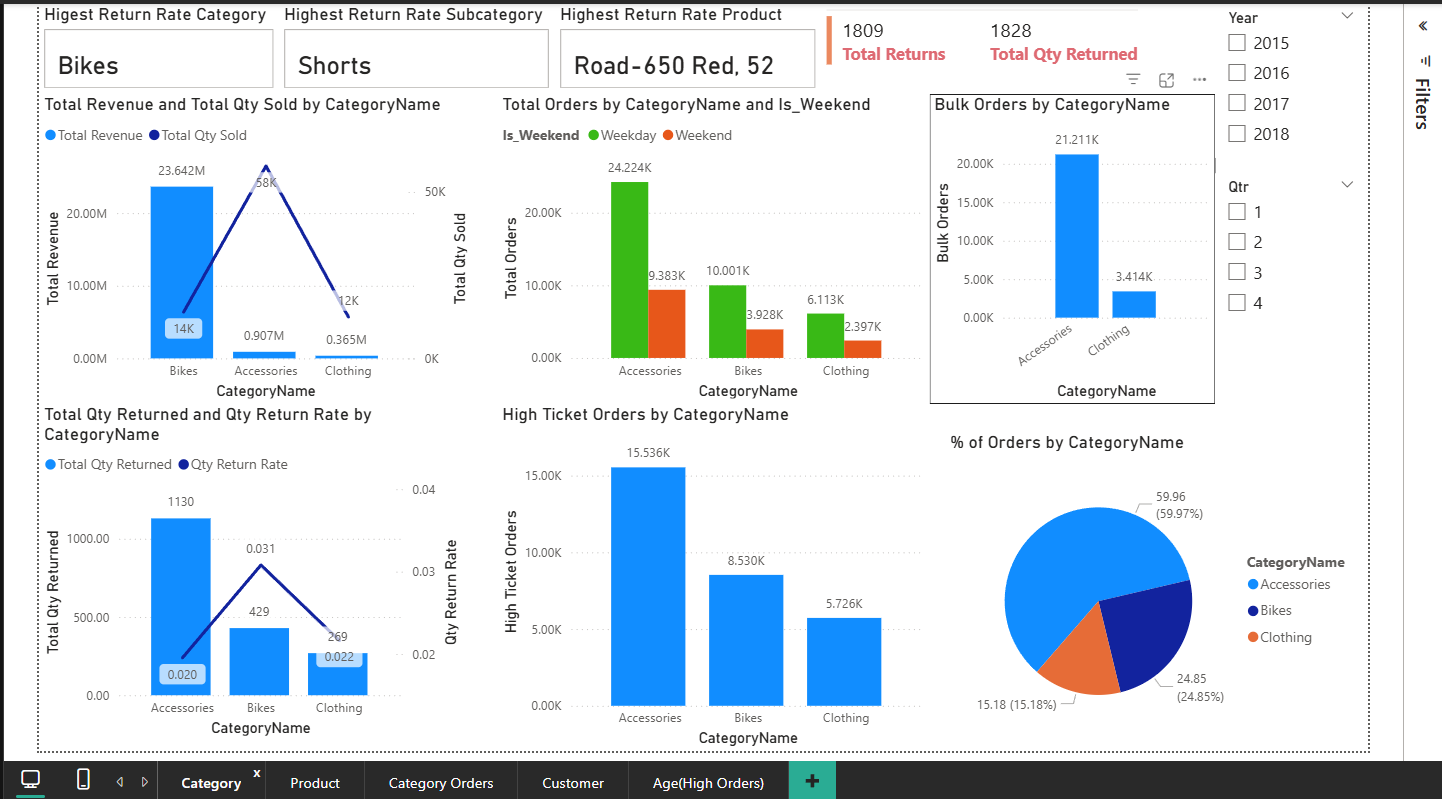

This screenshot's page, from the dashboard's own definition file:
{"tool":"powerbi","page":{"name":"Category","canvas":[1280,720],"ordinal":0},"visuals":[{"type":"lineClusteredColumnComboChart","fields":{"Category":["Products.CategoryName"],"Y":["Sales.Total Revenue"],"Y2":["Sales.Total Qty Sold"]},"box":[0,86.2,417.5,298.8],"z":1000},{"type":"lineClusteredColumnComboChart","fields":{"Category":["Products.CategoryName"],"Y2":["Sales.Qty Return Rate"],"Y":["Sales.Total Qty Returned"]},"box":[0,385,408.8,325],"z":2000},{"type":"cardVisual","title":"Higest Return Rate Category","fields":{"Data":["Min(Products.CategoryName)"]},"box":[0,0,231.7,86.7],"z":4000},{"type":"cardVisual","title":"Highest Return Rate Subcategory","fields":{"Data":["Min(Products.SubcategoryName)"]},"box":[231.7,0,265,86.7],"z":5000},{"type":"cardVisual","title":"Highest Return Rate Product","fields":{"Data":["Min(Products.ProductName)"]},"box":[496.7,0,256.7,86.7],"z":6000},{"type":"multiRowCard","fields":{"Values":["Sales.Total Returns","Sales.Total Qty Returned"]},"box":[753.3,0,310,86.7],"z":7000},{"type":"clusteredColumnChart","fields":{"Category":["Products.CategoryName"],"Y":["Sales.Bulk Orders"]},"box":[858.3,86.7,275,298.3],"z":8000},{"type":"clusteredColumnChart","fields":{"Category":["Products.CategoryName"],"Y":["Sales.Total Orders"],"Series":["Calendar_Tbl.Is_Weekend"]},"box":[441.7,86.7,416.7,298.3],"z":8001},{"type":"pieChart","fields":{"Y":["Sales.% of Orders"],"Category":["Products.CategoryName"]},"box":[873.3,411.7,406.7,308.3],"z":8002},{"type":"clusteredColumnChart","fields":{"Category":["Products.CategoryName"],"Y":["Sales.High Ticket Orders"]},"box":[441.7,385,416.7,335],"z":8003},{"type":"slicer","fields":{"Values":["Calendar_Tbl.Qtr"]},"box":[1133.3,163.3,146.7,228.3],"z":8004},{"type":"slicer","fields":{"Values":["Calendar_Tbl.Year"]},"box":[1133.3,0,146.7,148.3],"z":8005}]}

Visuals, with their boxes on the page's 1280x720 design canvas (x1, y1, x2, y2). These are canvas units, not pixel positions in the 1442x799 screenshot, which may show the page scaled, cropped or inside an application window:
lineClusteredColumnComboChart - Products.CategoryName x Sales.Total Revenue: 0/86/418/385
lineClusteredColumnComboChart - Products.CategoryName x Sales.Qty Return Rate: 0/385/409/710
"Higest Return Rate Category" cardVisual: 0/0/232/87
"Highest Return Rate Subcategory" cardVisual: 232/0/497/87
"Highest Return Rate Product" cardVisual: 497/0/753/87
multiRowCard - Sales.Total Returns x Sales.Total Qty Returned: 753/0/1063/87
clusteredColumnChart - Products.CategoryName x Sales.Bulk Orders: 858/87/1133/385
clusteredColumnChart - Products.CategoryName x Sales.Total Orders: 442/87/858/385
pieChart - Sales.% of Orders x Products.CategoryName: 873/412/1280/720
clusteredColumnChart - Products.CategoryName x Sales.High Ticket Orders: 442/385/858/720
slicer - Calendar_Tbl.Qtr: 1133/163/1280/392
slicer - Calendar_Tbl.Year: 1133/0/1280/148
